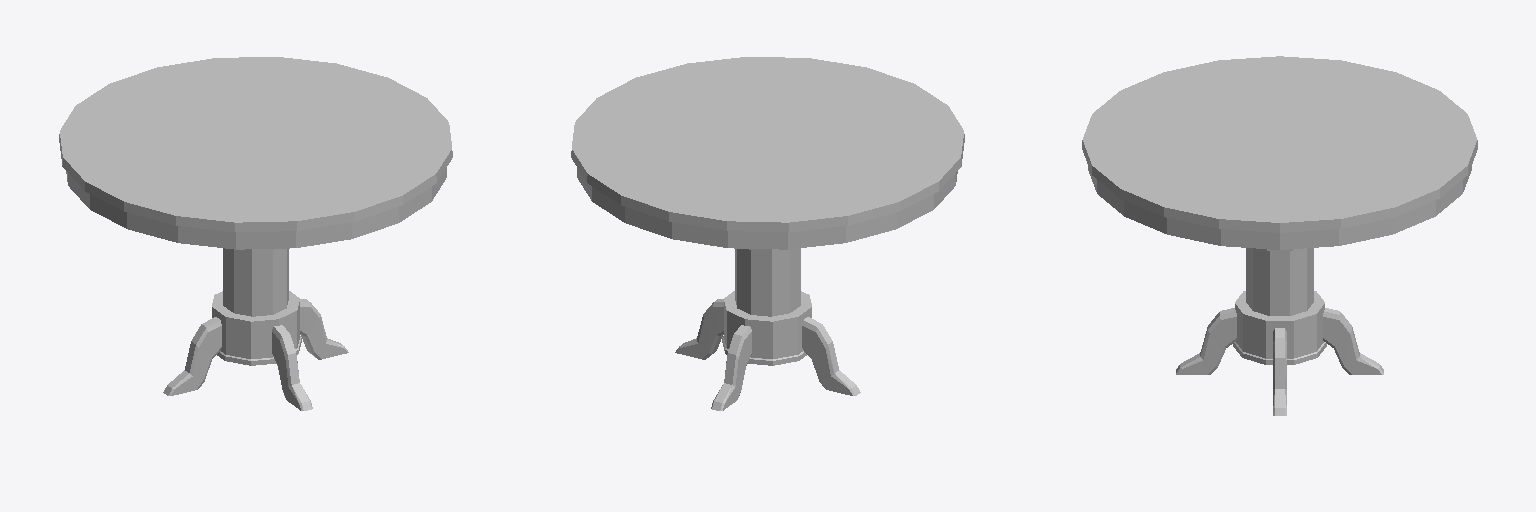
The model's file is table_pedestal_circ_legs_clean.obj.
The picture shows the model from 3 angles: view 1: azimuth 30°, elevation 25°; view 2: azimuth 150°, elevation 25°; view 3: azimuth 270°, elevation 25°; orthographic projection.
Parts seen in each view (by area): view 1: table_pedestal_circ_legs; view 2: table_pedestal_circ_legs; view 3: table_pedestal_circ_legs.
Boxes of the visible parts, x1,y1,x2,y2 form: table_pedestal_circ_legs: [59, 57, 452, 410]; table_pedestal_circ_legs: [571, 57, 964, 410]; table_pedestal_circ_legs: [1082, 56, 1477, 415].
Bounding box in the file's own units: 2 × 1.3 × 2.